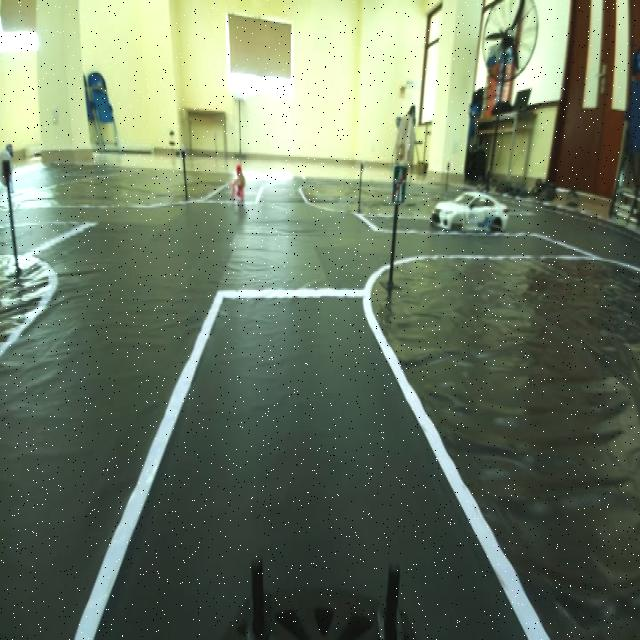highway_exit: (383, 158, 411, 204)
